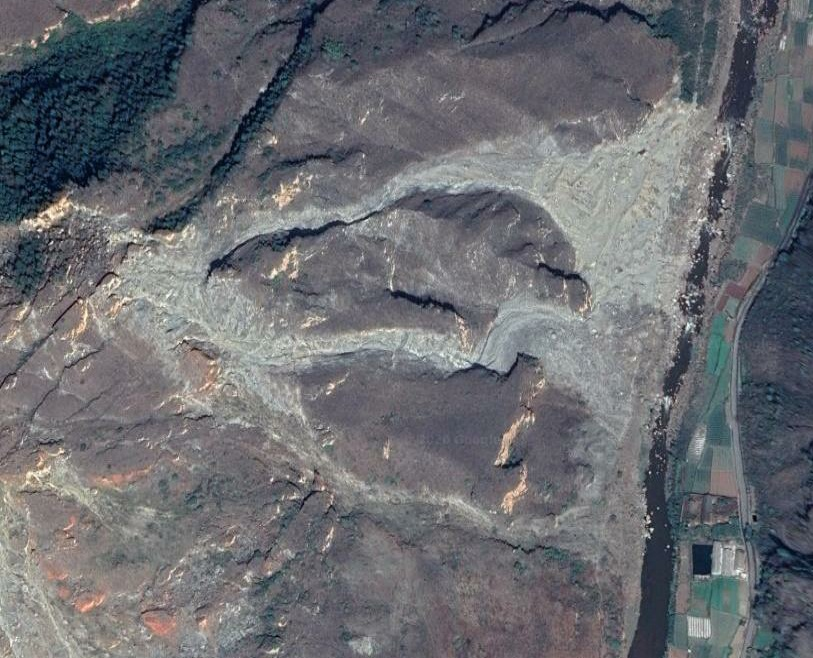slope: (94, 91, 722, 634), (11, 447, 163, 549)
